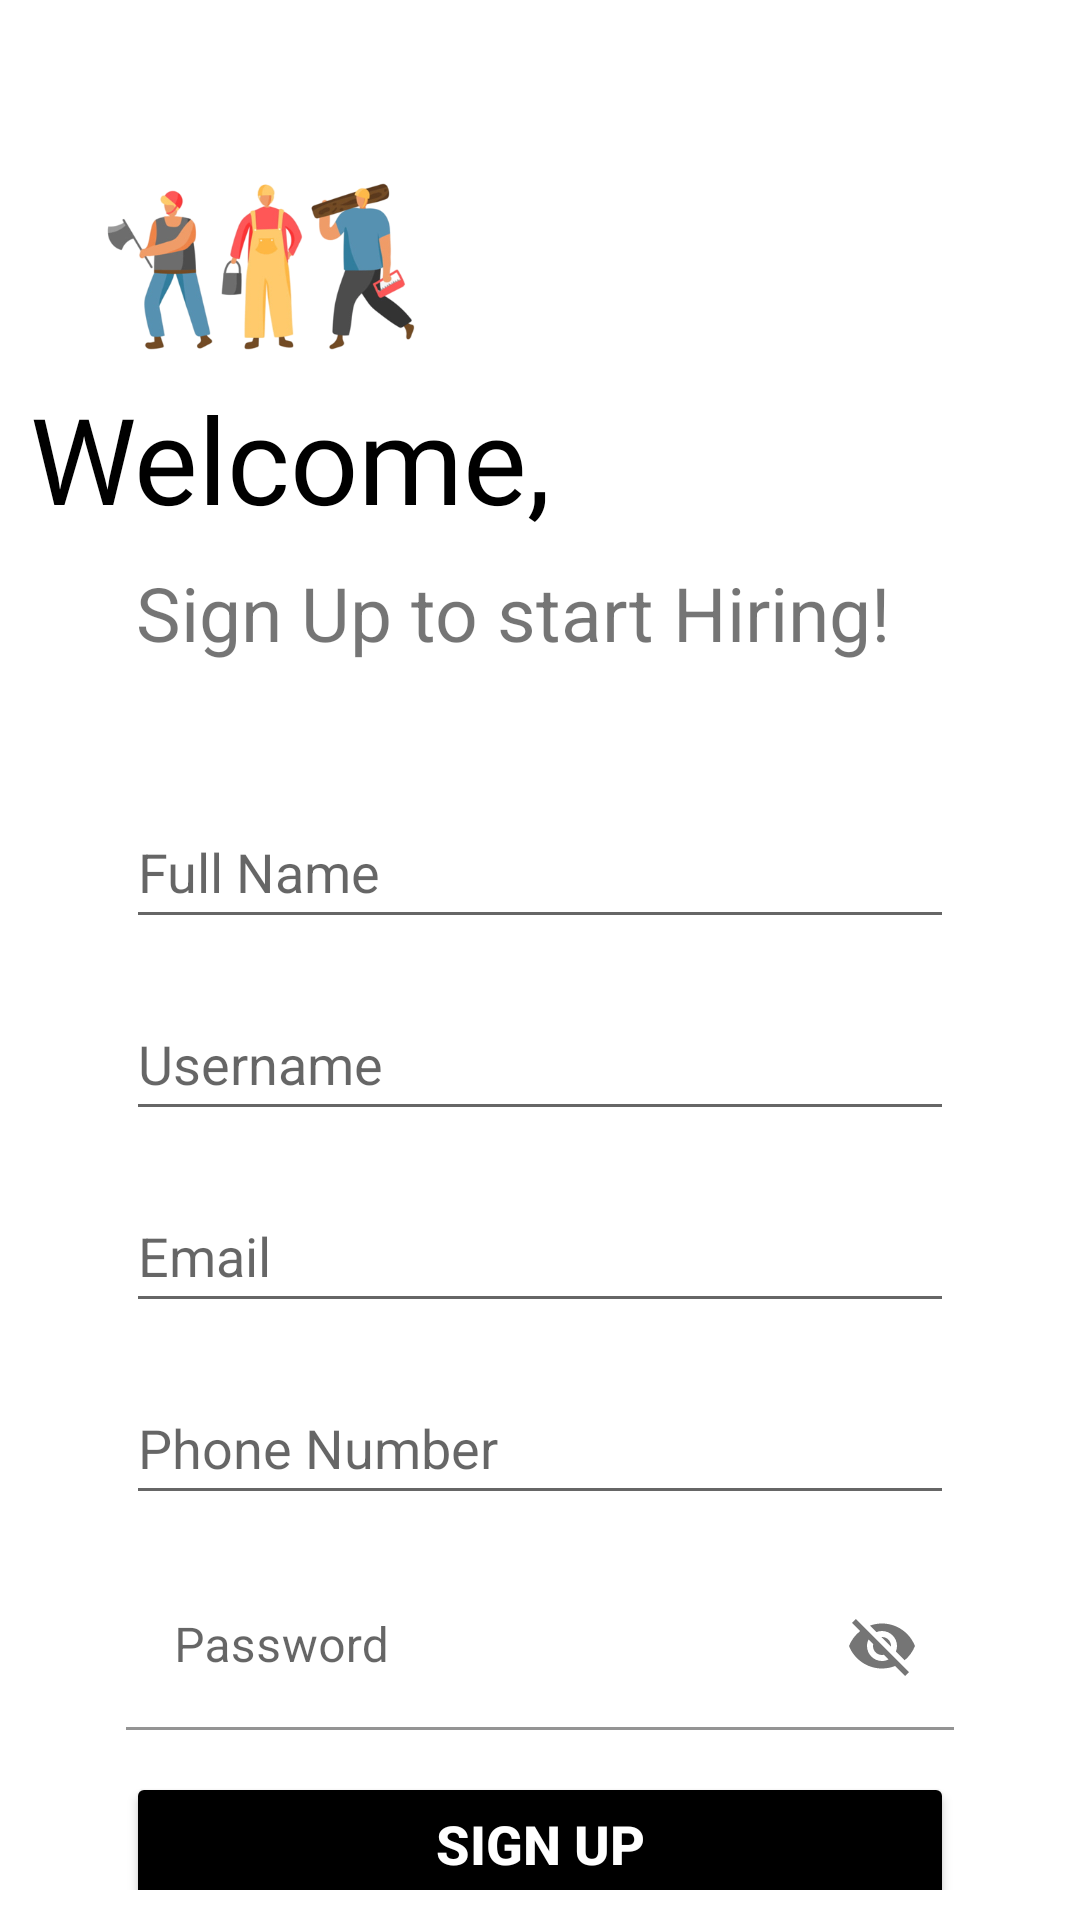

Where to tap for icons on this 1080 × 1920 app screen, as point (x, y):
workers: point (261, 266)
